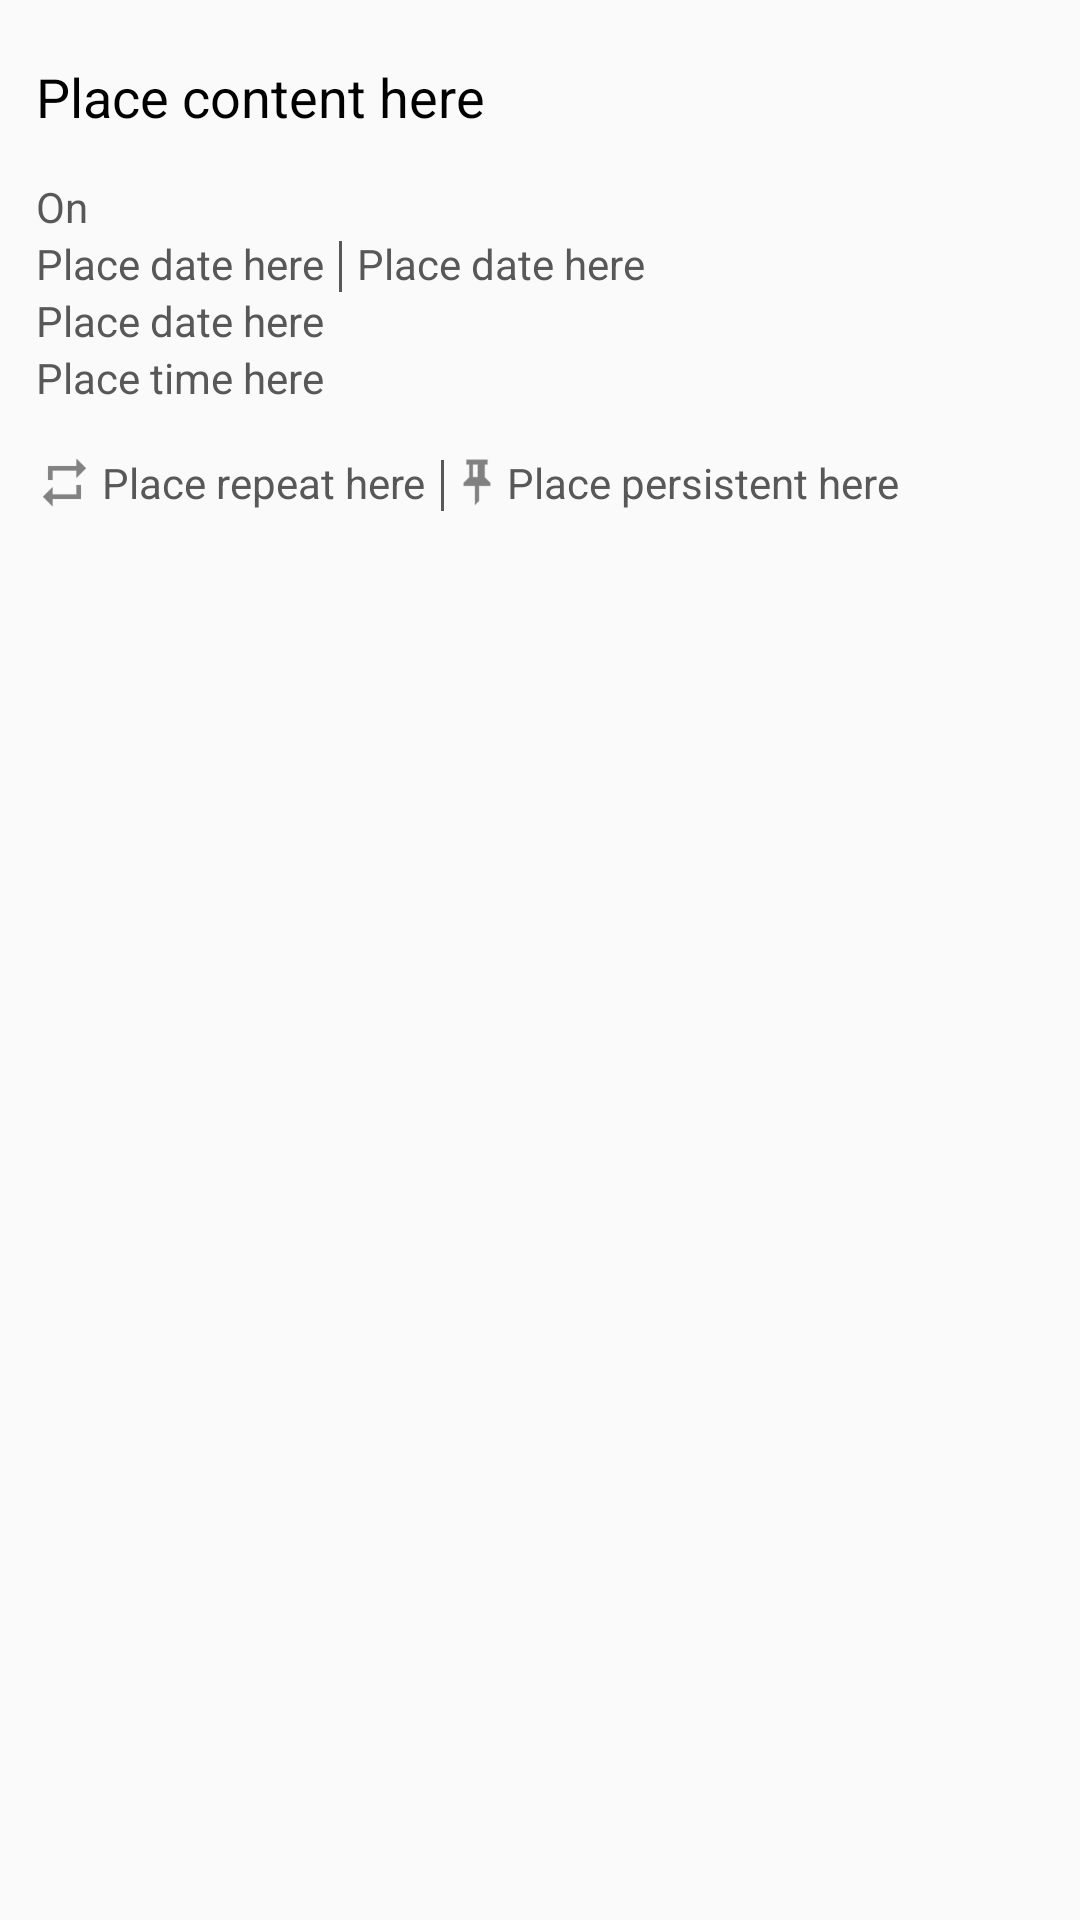

Screen size 1080w x 1920h. Icon name, then its box in pixels as Rect(x1, y1, x2, y2):
pushpin on: Rect(463, 459, 491, 505)
repeat on: Rect(43, 459, 86, 506)
